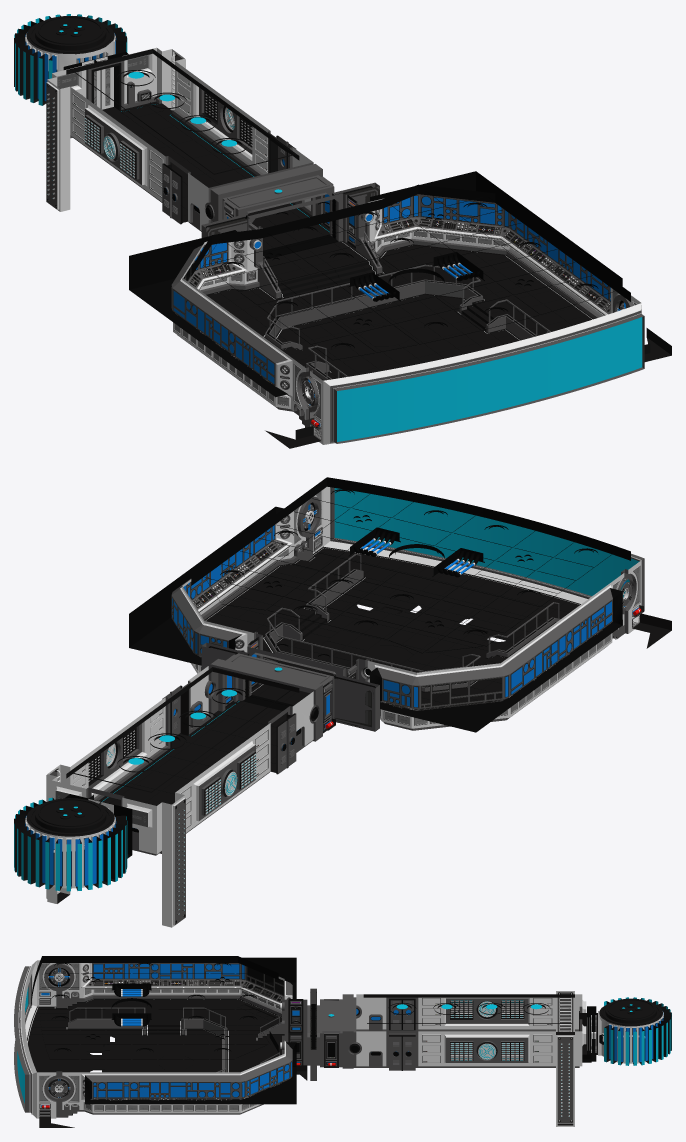
The model's file is BridgeV74.fbx.
The picture shows the model from 3 angles, top to bottom: view 1: azimuth 30°, elevation 25°; view 2: azimuth 150°, elevation 25°; view 3: azimuth 270°, elevation 25°; orthographic projection. The views are drawn at different scales.
Visible parts, largest first — view 1: Bridge, BridgeHallway; view 2: Bridge, BridgeHallway; view 3: Bridge, BridgeHallway, BridgeHallwayTurboliftDoorPort.
Part boxes in pixels (left/top/right/bottom): Bridge: left=129, top=171, right=671, bottom=448; BridgeHallway: left=14, top=14, right=334, bottom=250; Bridge: left=129, top=477, right=671, bottom=732; BridgeHallway: left=14, top=653, right=335, bottom=927; Bridge: left=14, top=956, right=319, bottom=1127; BridgeHallway: left=320, top=991, right=671, bottom=1126; BridgeHallwayTurboliftDoorPort: left=587, top=1017, right=596, bottom=1052.
Size of what is drawn, in the model's own units: 21.11 by 7.5 by 43.64.
